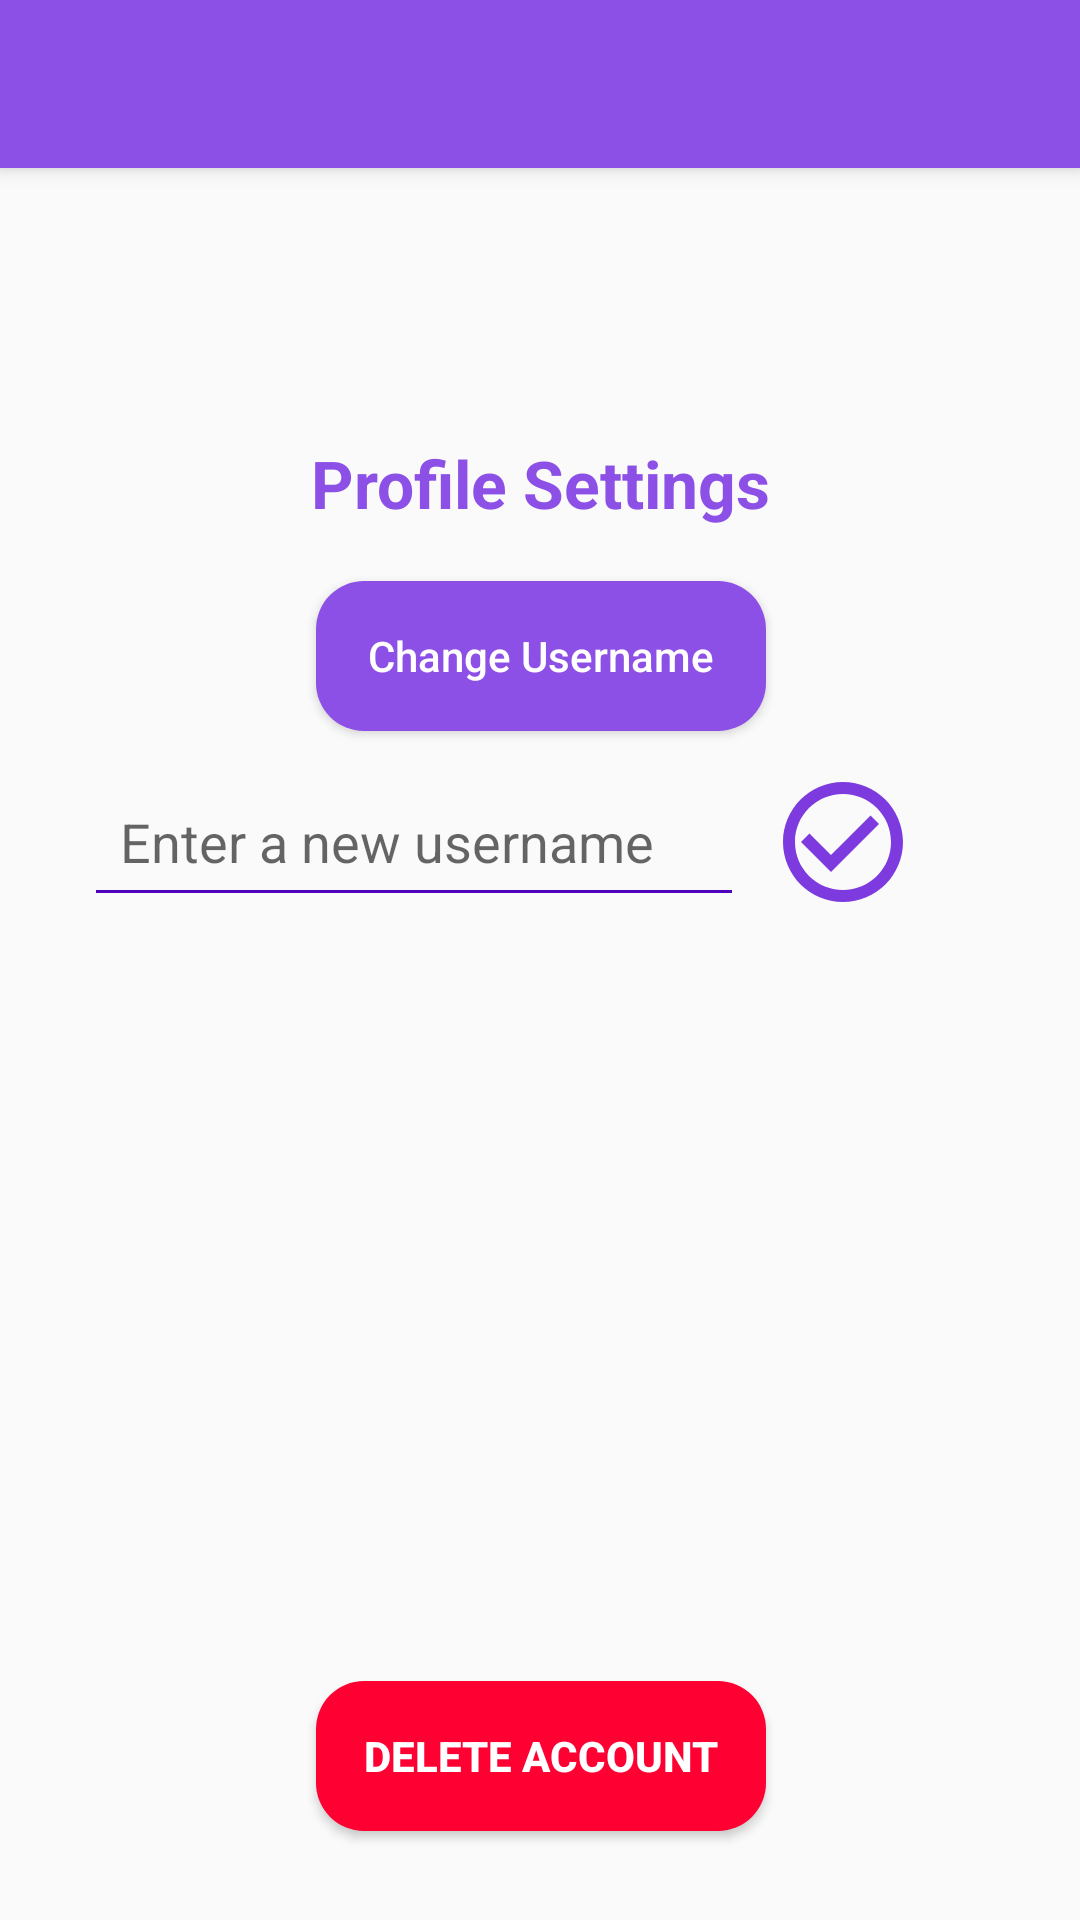

Icons on this 1080 x 1920 Android screen, each with the point to tap as (x,y):
Confirm username: (843,842)
